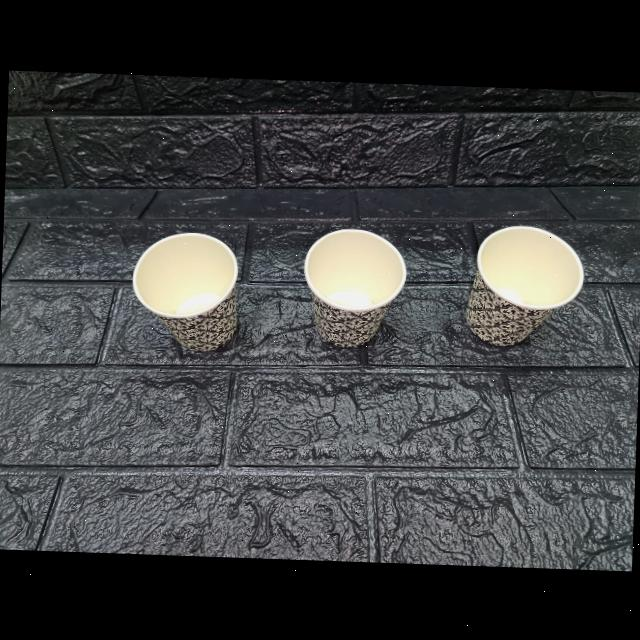trash: (466, 218, 584, 346), (126, 228, 244, 352), (298, 226, 406, 350)
